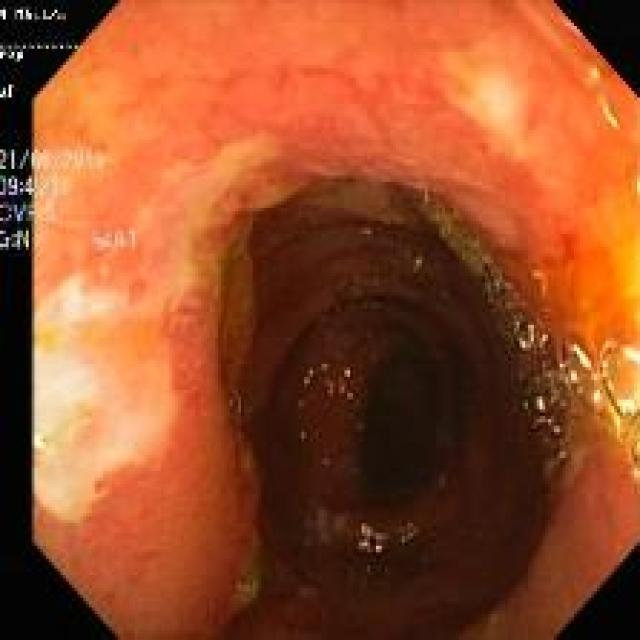ulcerative-colitis-grade-3: (35, 3, 640, 625)
